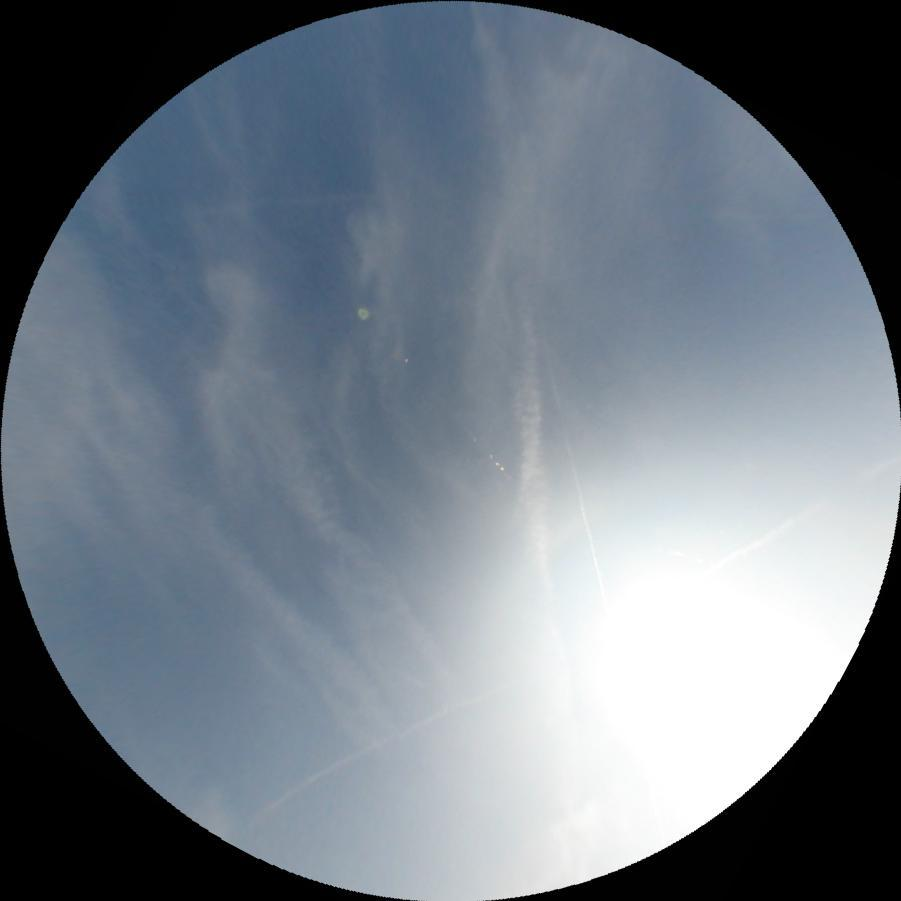contrail veryold: (194, 339, 463, 730), (131, 468, 406, 758), (459, 0, 560, 646)
contrail young: (539, 332, 609, 611), (188, 190, 833, 220), (383, 663, 432, 691)
sun: (520, 534, 854, 879)
